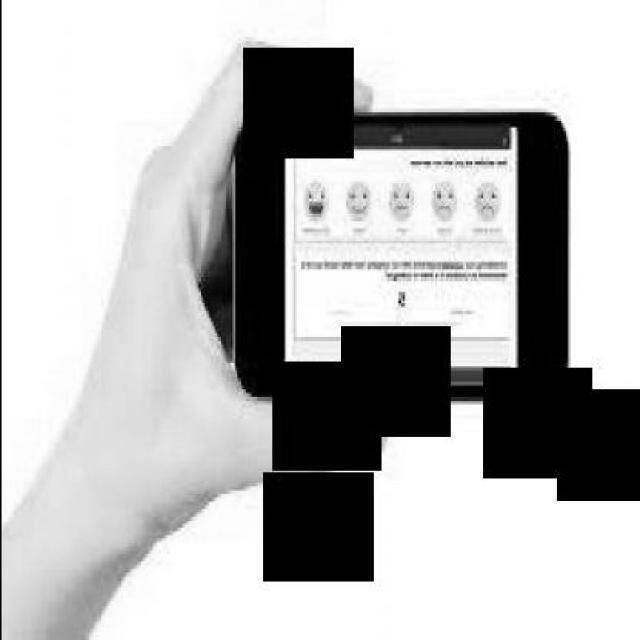fake: (226, 108, 572, 401)
